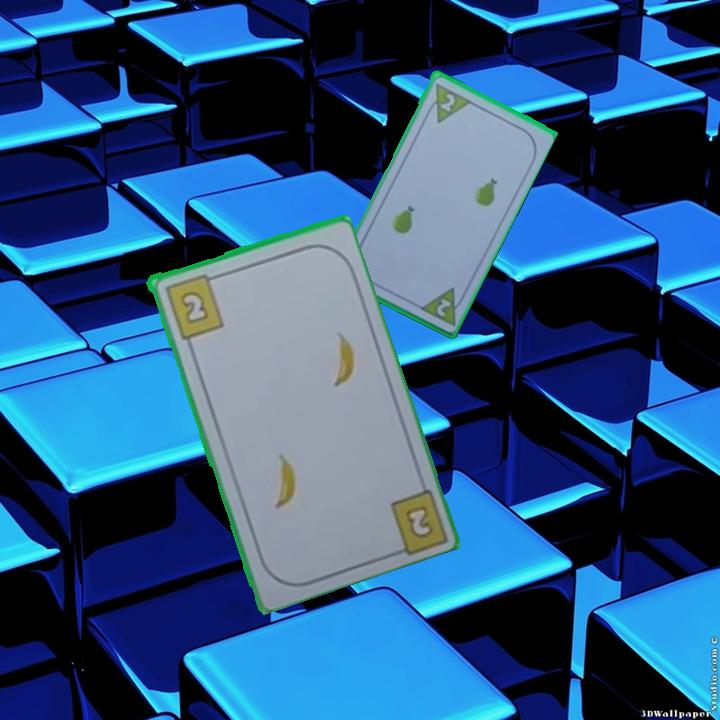2b: (161, 270, 226, 342), (401, 501, 436, 541)
2p: (415, 283, 469, 328), (436, 89, 458, 114)
